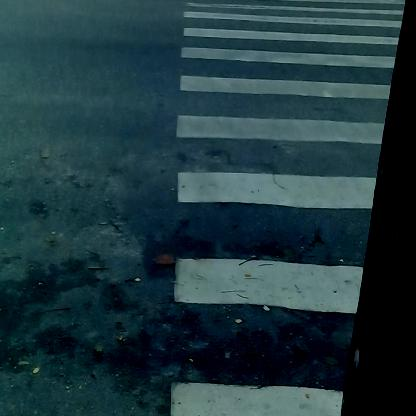crosswalk: (172, 7, 388, 416)
